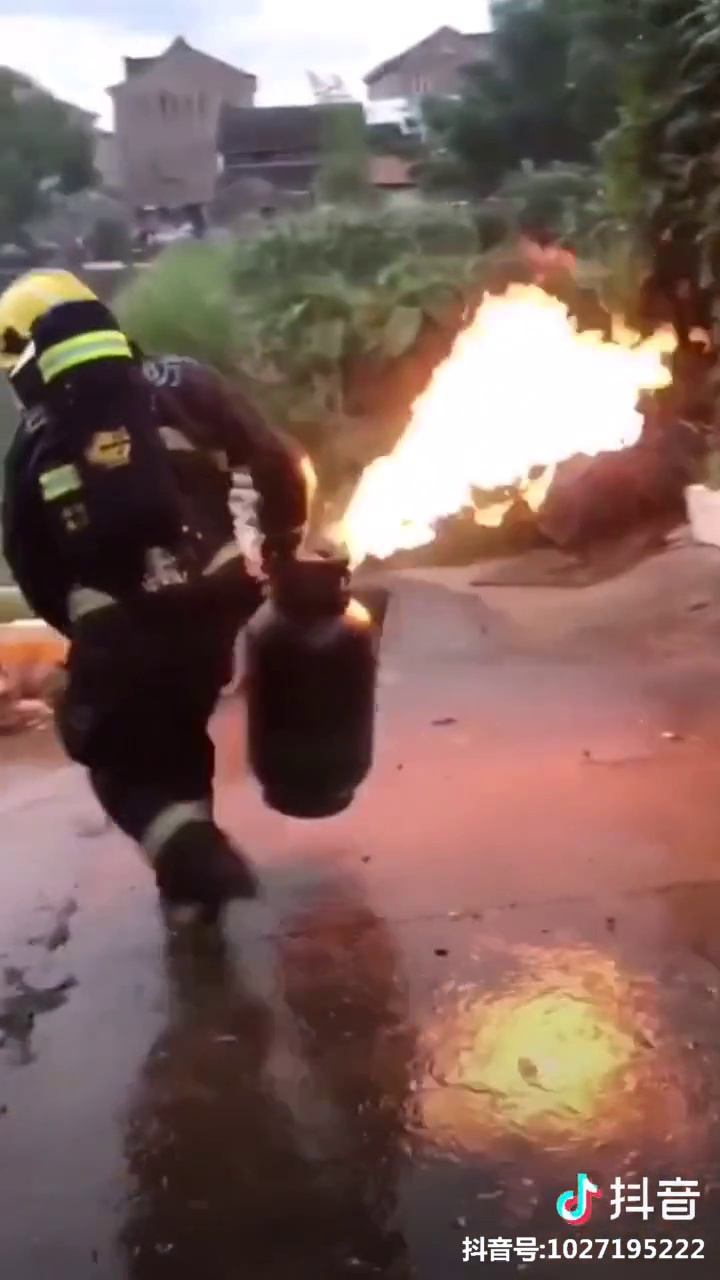fire: (351, 298, 688, 563)
